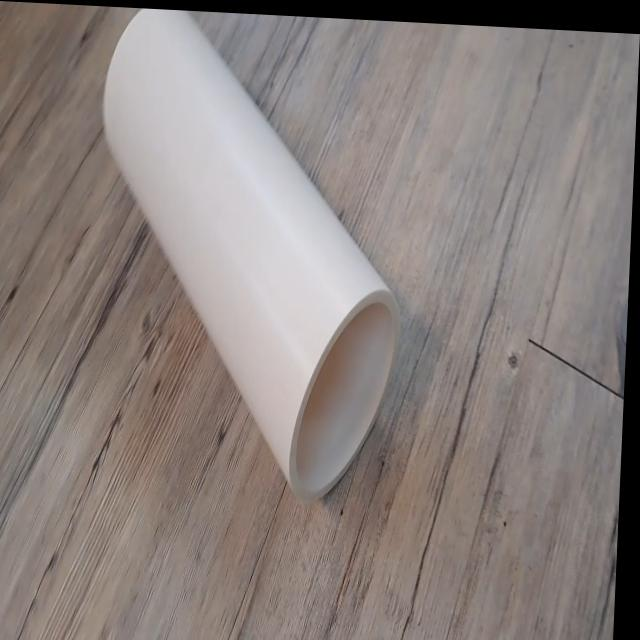CORAL: (71, 5, 412, 522)
